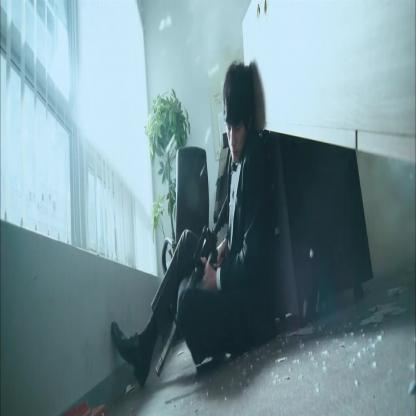Gun: (150, 180, 238, 382)
